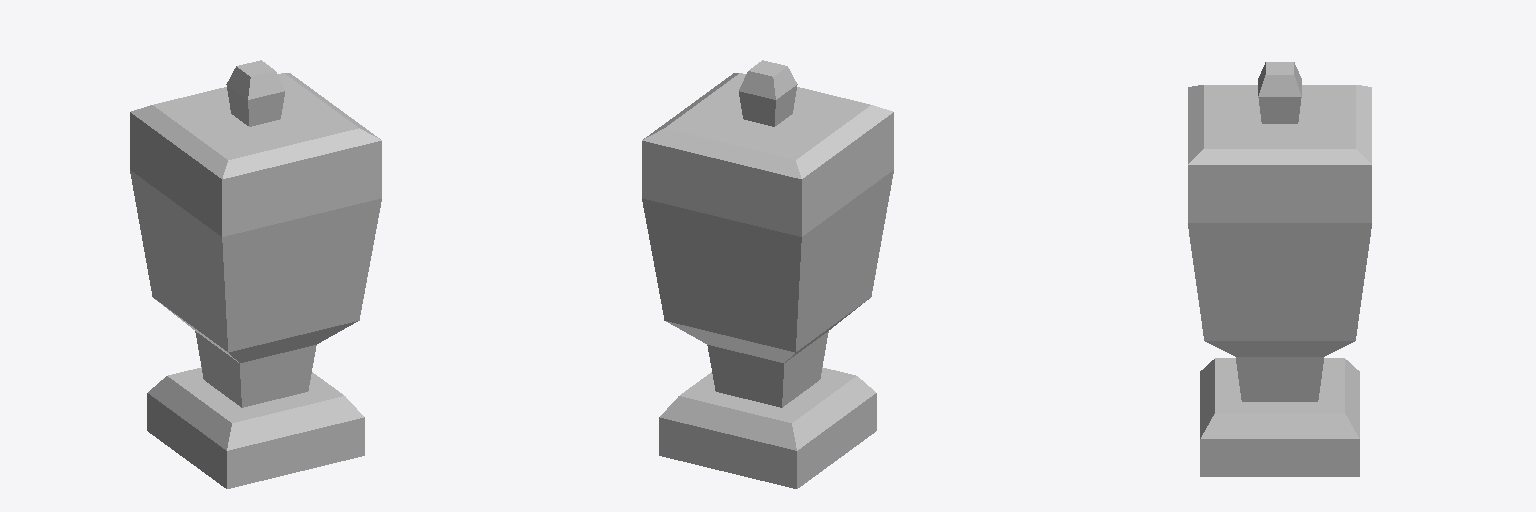
Rendered from urn.obj.
3 renders of one model, left to right at view 1: azimuth 30°, elevation 25°; view 2: azimuth 150°, elevation 25°; view 3: azimuth 270°, elevation 25°, orthographic.
Parts seen in each view (by area): view 1: urn, lid; view 2: urn, lid; view 3: urn, lid.
Boxes of the visible parts, x1,y1,x2,y2 form: urn: [130, 132, 381, 488]; lid: [130, 60, 381, 198]; urn: [642, 132, 893, 488]; lid: [642, 60, 893, 198]; urn: [1188, 184, 1371, 476]; lid: [1188, 62, 1371, 183].
Bounding box in the file's own units: 0.1742 × 0.39 × 0.1742.